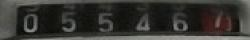digits: (166, 3, 195, 33), (92, 1, 118, 32), (129, 2, 154, 32), (19, 4, 40, 36), (208, 4, 234, 29), (58, 3, 80, 32)
